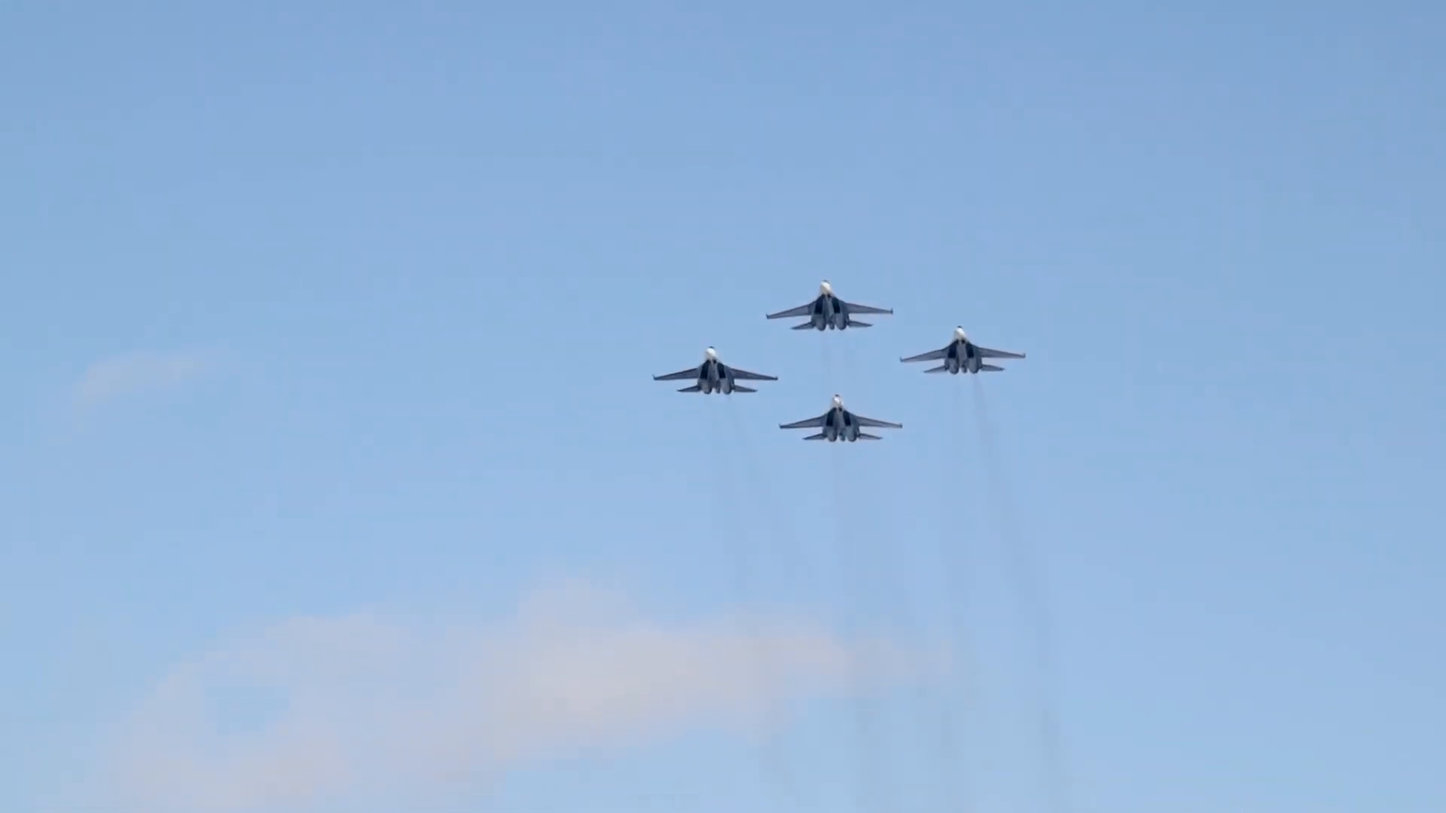Su35: (763, 277, 896, 335), (899, 324, 1028, 376), (777, 390, 902, 443), (654, 346, 778, 394)
